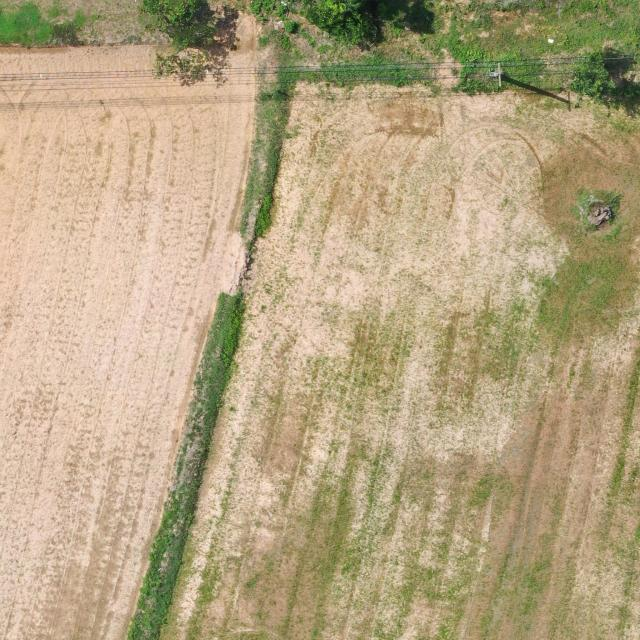tree: (142, 0, 213, 81), (572, 50, 617, 102)
